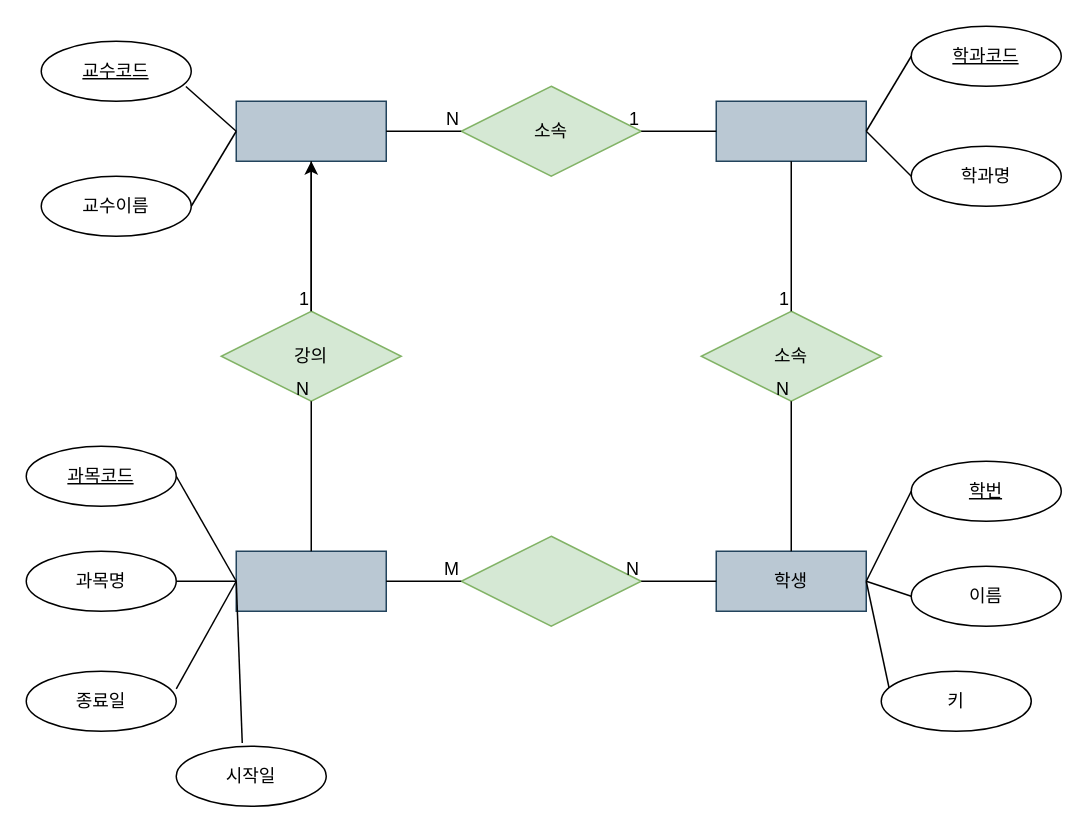
Image size: 1088x833. Some labels were removed from this diagram. Here are the shapes that lost their labels. From the top down, the centre of each, then its label:
At point 310,130: "교수".
At point 790,130: "학과".
At point 310,580: "과목".
At point 550,580: "수강".
